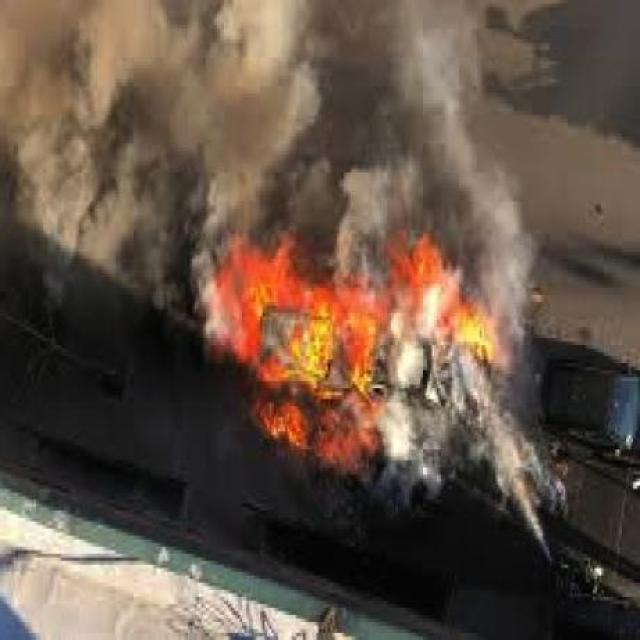Fire: (206, 230, 514, 470)
Smoke: (4, 3, 526, 229), (390, 358, 582, 557), (28, 196, 196, 341), (473, 208, 567, 300)
